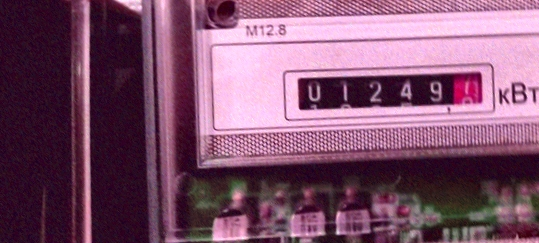0: (301, 75, 322, 102)
1: (333, 76, 350, 103)
2: (363, 77, 385, 105)
4: (396, 74, 416, 102)
7: (456, 71, 473, 96)
9: (425, 76, 445, 103)
screen: (271, 48, 510, 142)
